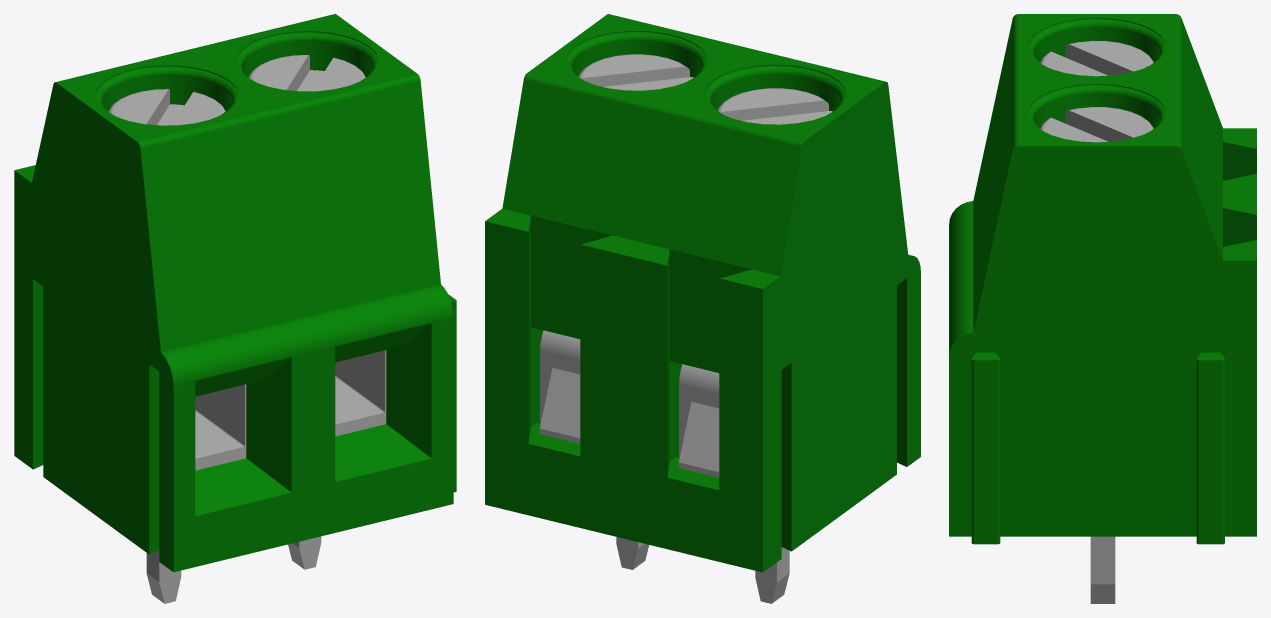
3 renders of one model, left to right at view 1: azimuth 30°, elevation 25°; view 2: azimuth 150°, elevation 25°; view 3: azimuth 270°, elevation 25°, orthographic. The views are drawn at different scales.
Parts seen in each view (by area): view 1: DG500-5.08-02P_body, DG500_pin_contact (×2), DG500_screw (×2), DG500_pin_pad (×2); view 2: DG500-5.08-02P_body, DG500_pin_pad (×2), DG500_screw (×2); view 3: DG500-5.08-02P_body, DG500_screw (×2), DG500_pin_pad.
Part boxes in pixels (x1,y1,x2,y2): DG500-5.08-02P_body: (14,14,456,572); DG500_pin_contact (×2): (195,350,386,470); DG500_screw (×2): (108,55,365,125); DG500_pin_pad (×2): (146,536,321,603); DG500-5.08-02P_body: (485,14,920,572); DG500_pin_pad (×2): (539,330,789,603); DG500_screw (×2): (578,54,832,124); DG500-5.08-02P_body: (949,14,1256,544); DG500_screw (×2): (1040,40,1153,142); DG500_pin_pad: (1090,536,1115,603).
Size of the model in its own units: 0.0107 by 0.0175 by 0.01.
